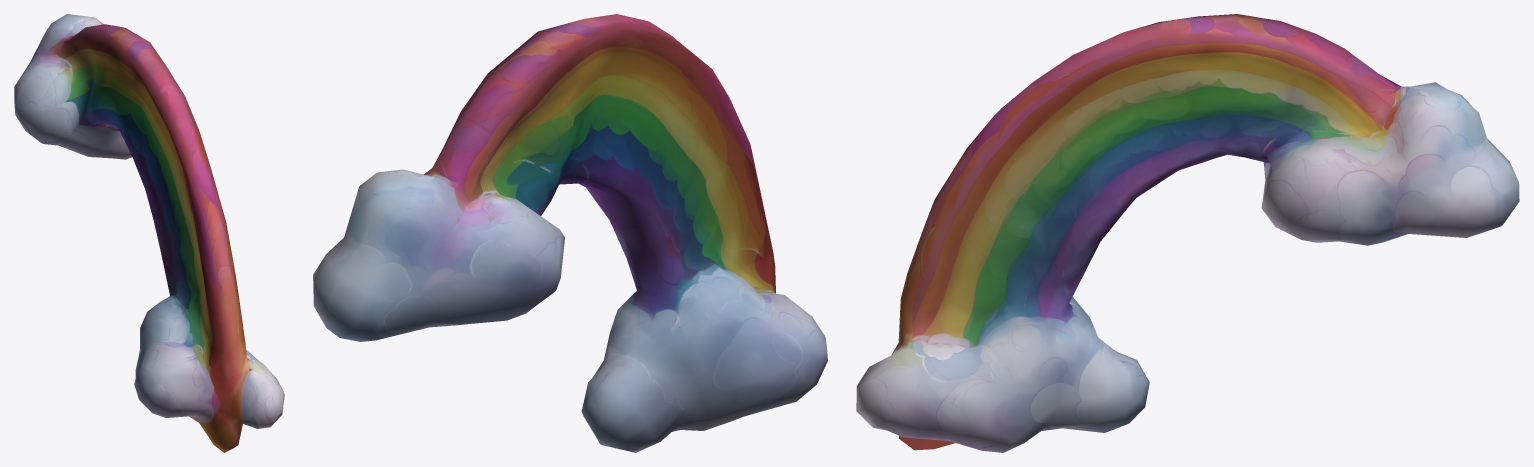
Rendered from rainbox1_Main.fbx.
3 views of the same model, side by side, from view 1: azimuth 30°, elevation 25°; view 2: azimuth 150°, elevation 25°; view 3: azimuth 270°, elevation 25° (orthographic). The views are drawn at different scales.
Visible parts, largest first — view 1: rainbow; view 2: rainbow; view 3: rainbow.
Part boxes in pixels (x1,y1,x2,y2): rainbow: (14, 14, 284, 452); rainbow: (313, 14, 827, 452); rainbow: (856, 14, 1519, 452).
Size of the model in its own units: 47.3 by 97.08 by 132.
